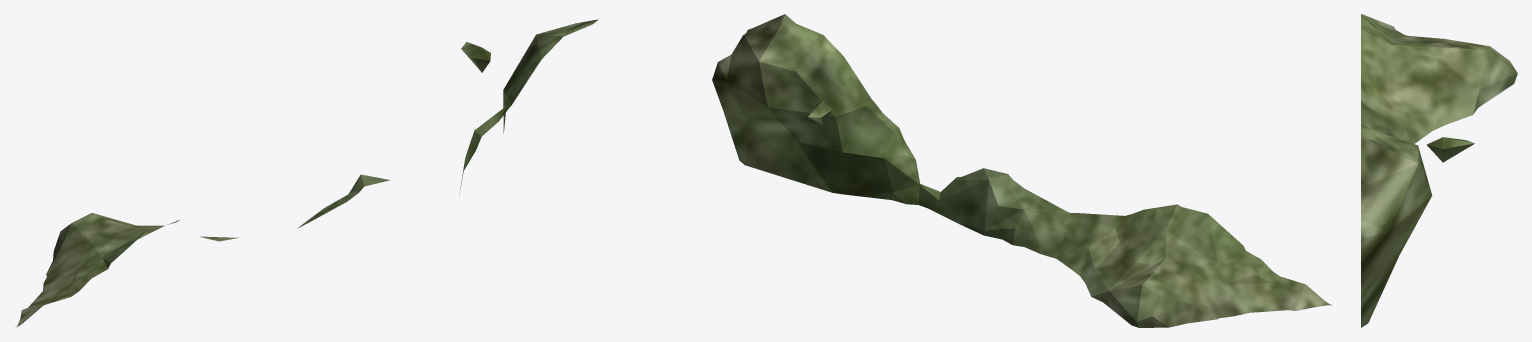
3 renders of one model, left to right at view 1: azimuth 30°, elevation 25°; view 2: azimuth 150°, elevation 25°; view 3: azimuth 270°, elevation 25°, orthographic. The views are drawn at different scales.
Bounding box in the file's own units: 4.99 × 1.21 × 1.01.
1 material, 1 textured.
